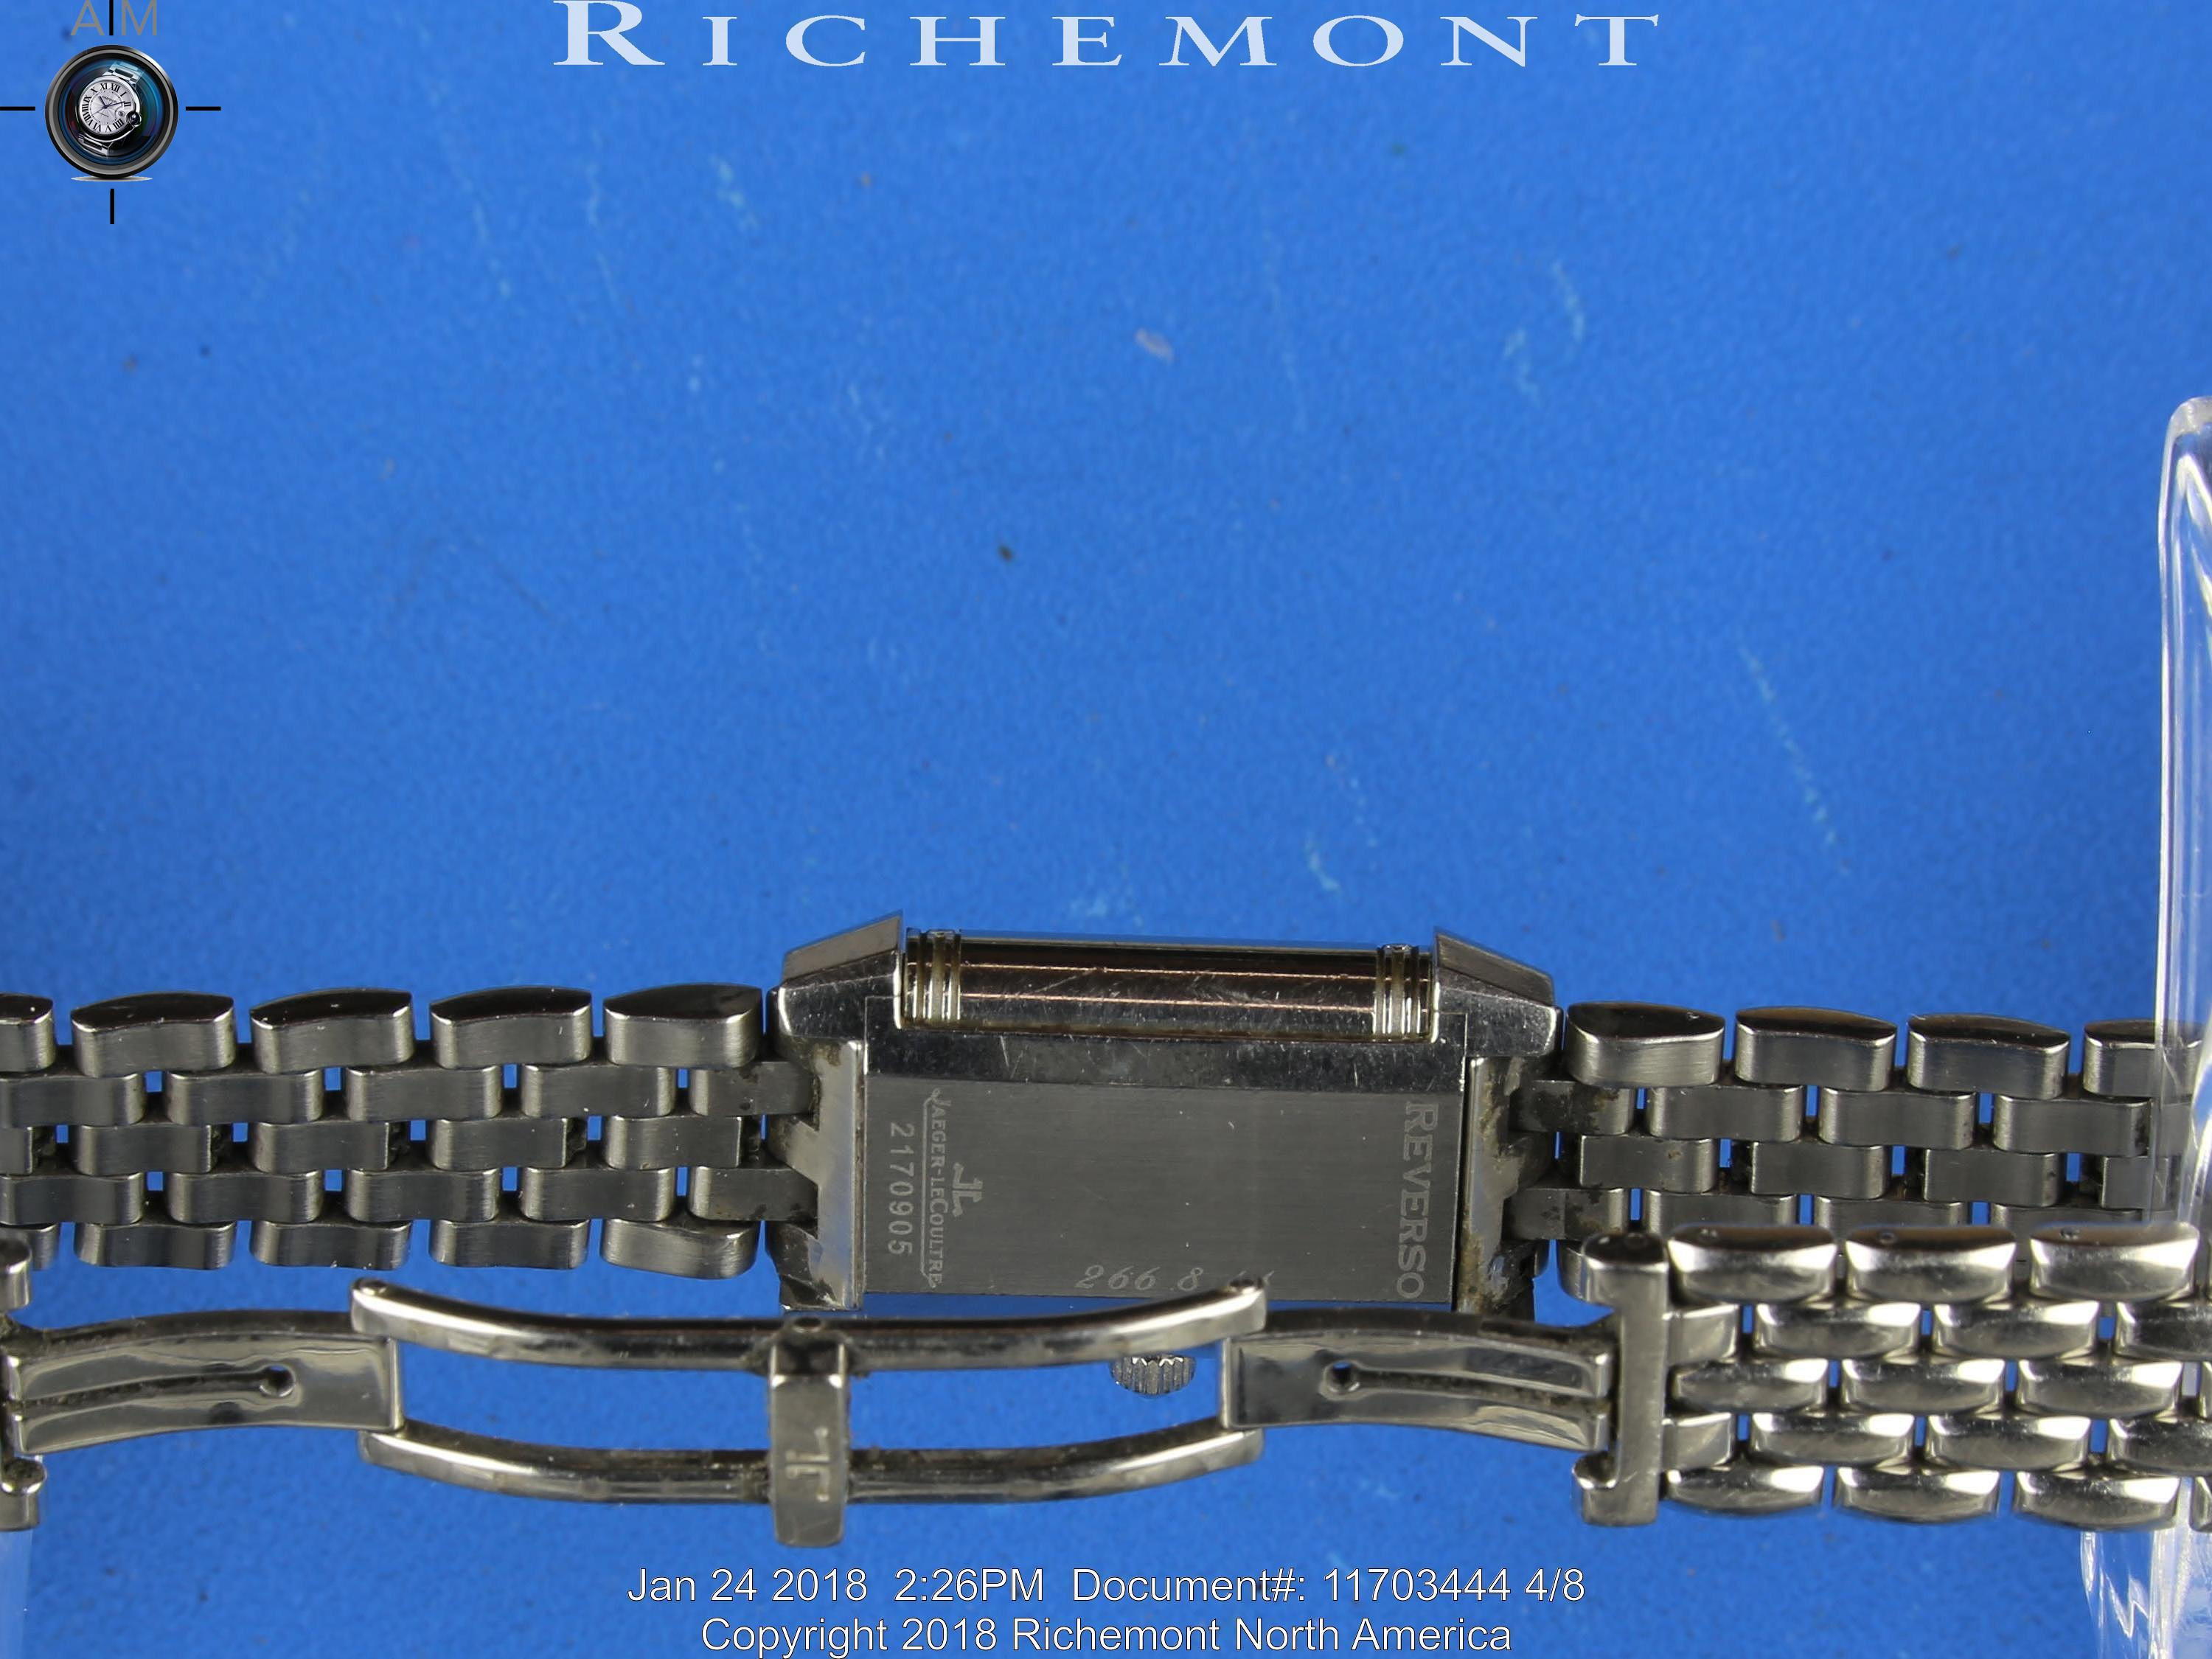Watch Back Case: (773, 911, 1559, 1324)
